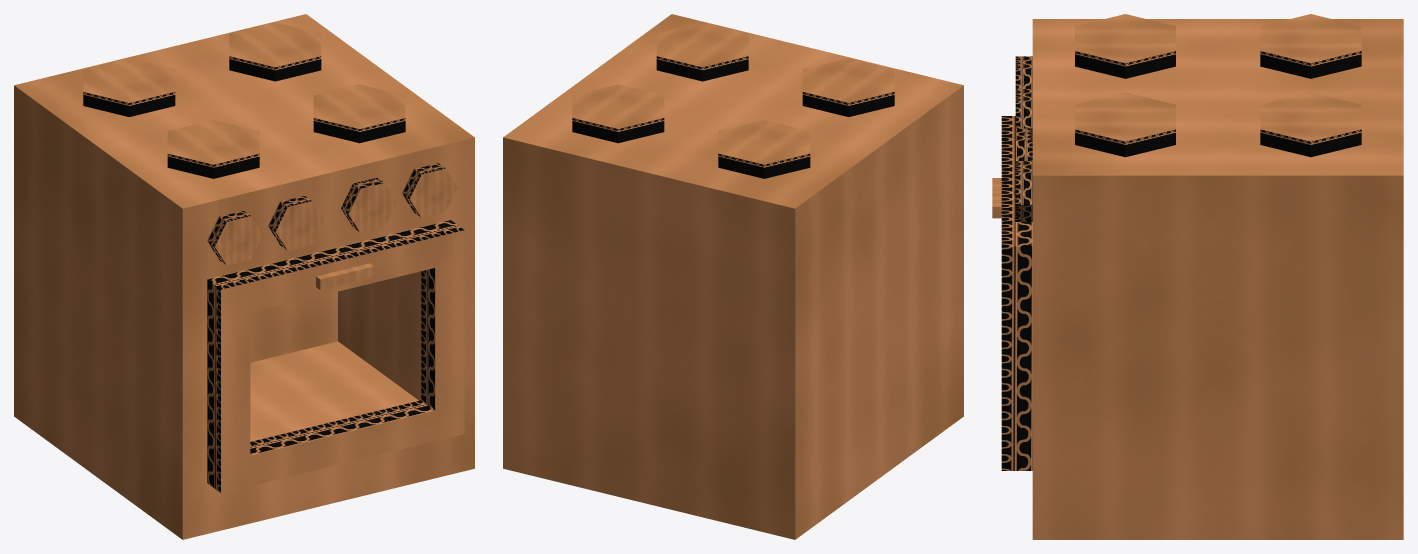
File: oven.fbx
The picture shows the model from 3 angles, left to right: view 1: azimuth 30°, elevation 25°; view 2: azimuth 150°, elevation 25°; view 3: azimuth 270°, elevation 25°; orthographic projection. The views are drawn at different scales.
Visible parts, largest first — view 1: Oven, OvenDoor, Stovetop, Buttons; view 2: Oven, Stovetop; view 3: Oven, Stovetop, OvenDoor, Buttons.
Boxes of the visible parts, bbox=[...] form: Oven: bbox=[14, 14, 474, 539]; OvenDoor: bbox=[207, 220, 464, 493]; Stovetop: bbox=[83, 22, 405, 178]; Buttons: bbox=[207, 163, 457, 265]; Oven: bbox=[503, 14, 963, 539]; Stovetop: bbox=[572, 22, 894, 178]; Oven: bbox=[1032, 19, 1403, 539]; Stovetop: bbox=[1075, 14, 1361, 157]; OvenDoor: bbox=[992, 116, 1032, 470]; Buttons: bbox=[1015, 56, 1032, 221].
Bounding box in the file's own units: 3 × 3.42 × 3.33.
